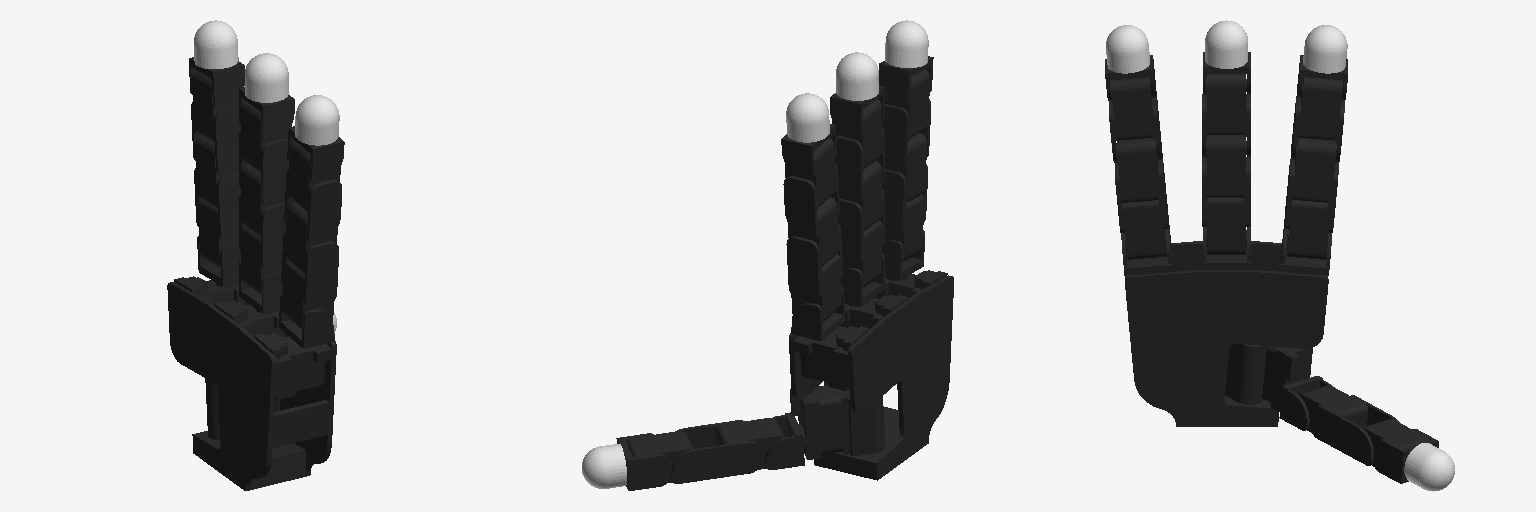
robot.urdf — allegro_hand_right:
<?xml version="1.0" ?>
<!-- =================================================================================== -->
<!-- |    This document was autogenerated by xacro from urdf/allegro_hand_description_right.xacro | -->
<!-- |    EDITING THIS FILE BY HAND IS NOT RECOMMENDED                                 | -->
<!-- =================================================================================== -->
<robot name="allegro_hand_right" xmlns:xacro="http://www.ros.org/wiki/xacro">
  <!-- ============================================================================= -->
  <!-- Base link -->
  <link name="hand_root">
    <origin xyz="0 0 0"/>
  </link>
  <joint name="root_to_base" type="fixed">
    <parent link="hand_root"/>
    <child link="palm_link"/>
    <origin xyz="0 0 0.095"/>
  </joint>
  <!-- PALM -->
  <link name="palm_link">
    <visual>
      <geometry>
        <mesh filename="../meshes/base_link.obj"/>
      </geometry>
      <origin rpy="0 0 0" xyz="0 0 0 "/>
      <material name="black">
        <color rgba="0.2 0.2 0.2 1"/>
      </material>
    </visual>
    <collision>
      <origin rpy="0 0 0" xyz="-0.009300 0 -0.0475"/>
      <geometry>
        <box size="0.0408 0.1130 0.095"/>
      </geometry>
    </collision>
    <inertial>
      <origin rpy="0 0 0" xyz="0 0 0"/>
      <mass value="0.4154"/>
      <inertia ixx="0.00208916" ixy="-3.63457e-06" ixz="0.000223277" iyy="0.00182848" iyz="-1.75634e-05" izz="0.000482459" />
    </inertial>
  </link>
  <!-- [LINK 0, 4, 8] -->
  <link name="link_0">
    <visual>
      <geometry>
        <mesh filename="../meshes/link_0.0.obj"/>
      </geometry>
      <material name="black"/>
    </visual>
    <collision>
      <geometry>
        <box size="0.0196 0.0275 0.0164"/>
      </geometry>
      <origin rpy="0 0 0" xyz="0 0 0.0082"/>
    </collision>
    <inertial>
      <mass value="0.0119"/>
      <origin rpy="0 0 0" xyz="0 0 0"/>
      <inertia ixx="1.95377e-06" ixy="3.03372e-09" ixz="8.92323e-08" iyy="1.17908e-06" iyz="-3.7069e-08" izz="1.49673e-06" />
    </inertial>
  </link>
  <joint name="joint_0" type="revolute">
    <axis xyz="0 0 1"/>
    <limit effort="15" lower="-0.47" upper="0.47" velocity="7"/>
    <parent link="palm_link"/>
    <child link="link_0"/>
    <origin rpy="-0.08726646255 0 0" xyz="0 0.0435 -0.001542"/>
    <dynamics damping="1e-2" friction="10"/>
  </joint>
  <transmission name="joint_0_trans" type="transmission_interface/SimpleTransmission">
    <actuator name="joint_0_motor"/>
    <joint name="joint_0"/>
    <mechanicalReduction>1</mechanicalReduction>
    <motorTorqueConstant>1</motorTorqueConstant>
  </transmission>
  <!-- [LINK 1, 5, 9] -->
  <link name="link_1">
    <visual>
      <geometry>
        <mesh filename="../meshes/link_1.0.obj"/>
      </geometry>
      <material name="black"/>
    </visual>
    <collision>
      <geometry>
        <box size="0.0196 0.0275 0.054"/>
      </geometry>
      <origin rpy="0 0 0" xyz="0 0 0.027"/>
    </collision>
    <inertial>
      <mass value="0.065"/>
      <origin rpy="0 0 0" xyz="0 0 0"/>
      <inertia ixx="7.19218e-05" ixy="0" ixz="0" iyy="7.4377e-05" iyz="7.32186e-07" izz="5.40622e-06" />
    </inertial>
  </link>
  <joint name="joint_1" type="revolute">
    <limit effort="15" lower="-0.196" upper="1.61" velocity="7"/>
    <axis xyz="0 1 0"/>
    <parent link="link_0"/>
    <child link="link_1"/>
    <origin xyz="0 0 0.0164"/>
    <dynamics damping="1e-2" friction="5"/>
  </joint>
  <transmission name="joint_1_trans" type="transmission_interface/SimpleTransmission">
    <actuator name="joint_1_motor"/>
    <joint name="joint_1"/>
    <mechanicalReduction>1</mechanicalReduction>
    <motorTorqueConstant>1</motorTorqueConstant>
  </transmission>
  <!-- [LINK 2, 6, 10]-->
  <link name="link_2">
    <visual>
      <geometry>
        <mesh filename="../meshes/link_2.0.obj"/>
      </geometry>
      <material name="black"/>
    </visual>
    <collision>
      <geometry>
        <box size="0.0196 0.0275 0.0384"/>
      </geometry>
      <origin rpy="0 0 0" xyz="0 0 0.0192"/>
    </collision>
    <inertial>
      <mass value="0.0355"/>
      <origin rpy="0 0 0" xyz="0 0 0"/>
      <inertia ixx="3.16925e-05" ixy="1.07094e-09" ixz="-4.91273e-09" iyy="3.10516e-05" iyz="3.87549e-08" izz="3.20319e-06" />
    </inertial>
  </link>
  <joint name="joint_2" type="revolute">
    <axis xyz="0 1 0"/>
    <limit effort="15" lower="-0.174" upper="1.709" velocity="7"/>
    <parent link="link_1"/>
    <child link="link_2"/>
    <origin xyz="0 0 0.054"/>
    <dynamics damping="2.5e-2" friction="10"/>
  </joint>
  <transmission name="joint_2_trans" type="transmission_interface/SimpleTransmission">
    <actuator name="joint_2_motor"/>
    <joint name="joint_2"/>
    <mechanicalReduction>1</mechanicalReduction>
    <motorTorqueConstant>1</motorTorqueConstant>
  </transmission>
  <!-- [LINK 3, 7, 11] -->
  <link name="link_3">
    <visual>
      <geometry>
        <mesh filename="../meshes/link_3.0.obj"/>
      </geometry>
      <material name="black"/>
    </visual>
    <collision>
      <geometry>
        <box size="0.0196 0.0275 0.0267"/>
      </geometry>
      <origin rpy="0 0 0" xyz="0 0 0.01335"/>
    </collision>
    <inertial>
      <mass value="0.0096"/>
      <origin rpy="0 0 0" xyz="0 0 0"/>
      <inertia ixx="2.13975e-06" ixy="1.59554e-09" ixz="-7.47528e-09" iyy="1.52036e-06" iyz="-9.89336e-09" izz="1.20271e-06" />
    </inertial>
  </link>
  <joint name="joint_3" type="revolute">
    <axis xyz="0 1 0"/>
    <limit effort="15" lower="-0.227" upper="1.618" velocity="7"/>
    <parent link="link_2"/>
    <child link="link_3"/>
    <origin xyz="0 0 0.0384"/>
    <dynamics damping="3.2e-2" friction="12"/>
  </joint>
  <transmission name="joint_3_trans" type="transmission_interface/SimpleTransmission">
    <actuator name="joint_3_motor"/>
    <joint name="joint_3"/>
    <mechanicalReduction>1</mechanicalReduction>
    <motorTorqueConstant>1</motorTorqueConstant>
  </transmission>
  <!-- [FINGER TIP] -->
  <link name="link_3_tip">
    <visual>
      <geometry>
        <mesh filename="../meshes/link_3.0_tip.obj"/>
      </geometry>
      <material name="white">
        <color rgba=".9 .9 .9 1"/>
      </material>
    </visual>
    <collision>
      <geometry>
        <sphere radius="0.012"/>
      </geometry>
    </collision>
    <inertial>
      <mass value="0.0168"/>
      <origin rpy="0 0 0" xyz="0 0 0"/>
      <inertia ixx="1.19599e-05" ixy="0" ixz="0" iyy="1.19598e-05" iyz="0" izz="1.10345e-06" />
    </inertial>
  </link>
  <joint name="joint_3_tip" type="fixed">
    <parent link="link_3"/>
    <child link="link_3_tip"/>
    <origin rpy="0 0 0" xyz="0 0 0.0267"/>
  </joint>
  <!-- [LINK 0, 4, 8] -->
  <link name="link_4">
    <visual>
      <geometry>
        <mesh filename="../meshes/link_0.0.obj"/>
      </geometry>
      <material name="black"/>
    </visual>
    <collision>
      <geometry>
        <box size="0.0196 0.0275 0.0164"/>
      </geometry>
      <origin rpy="0 0 0" xyz="0 0 0.0082"/>
    </collision>
    <inertial>
      <mass value="0.0119"/>
      <origin rpy="0 0 0" xyz="0 0 0"/>
      <inertia ixx="1.95377e-06" ixy="3.03372e-09" ixz="8.92323e-08" iyy="1.17908e-06" iyz="-3.7069e-08" izz="1.49673e-06" />
    </inertial>
  </link>
  <joint name="joint_4" type="revolute">
    <axis xyz="0 0 1"/>
    <limit effort="15" lower="-0.47" upper="0.47" velocity="7"/>
    <parent link="palm_link"/>
    <child link="link_4"/>
    <origin rpy="0.0 0 0" xyz="0 0 0.0007"/>
    <dynamics damping="1e-2" friction="10"/>
  </joint>
  <transmission name="joint_4_trans" type="transmission_interface/SimpleTransmission">
    <actuator name="joint_4_motor"/>
    <joint name="joint_4"/>
    <mechanicalReduction>1</mechanicalReduction>
    <motorTorqueConstant>1</motorTorqueConstant>
  </transmission>
  <!-- [LINK 1, 5, 9] -->
  <link name="link_5">
    <visual>
      <geometry>
        <mesh filename="../meshes/link_1.0.obj"/>
      </geometry>
      <material name="black"/>
    </visual>
    <collision>
      <geometry>
        <box size="0.0196 0.0275 0.054"/>
      </geometry>
      <origin rpy="0 0 0" xyz="0 0 0.027"/>
    </collision>
    <inertial>
      <mass value="0.065"/>
      <origin rpy="0 0 0" xyz="0 0 0"/>
      <inertia ixx="7.19218e-05" ixy="0" ixz="0" iyy="7.4377e-05" iyz="7.32186e-07" izz="5.40622e-06" />
    </inertial>
  </link>
  <joint name="joint_5" type="revolute">
    <limit effort="15" lower="-0.196" upper="1.61" velocity="7"/>
    <axis xyz="0 1 0"/>
    <parent link="link_4"/>
    <child link="link_5"/>
    <origin xyz="0 0 0.0164"/>
    <dynamics damping="1e-2" friction="5"/>
  </joint>
  <transmission name="joint_5_trans" type="transmission_interface/SimpleTransmission">
    <actuator name="joint_5_motor"/>
    <joint name="joint_5"/>
    <mechanicalReduction>1</mechanicalReduction>
    <motorTorqueConstant>1</motorTorqueConstant>
  </transmission>
  <!-- [LINK 2, 6, 10]-->
  <link name="link_6">
    <visual>
      <geometry>
        <mesh filename="../meshes/link_2.0.obj"/>
      </geometry>
      <material name="black"/>
    </visual>
    <collision>
      <geometry>
        <box size="0.0196 0.0275 0.0384"/>
      </geometry>
      <origin rpy="0 0 0" xyz="0 0 0.0192"/>
    </collision>
    <inertial>
      <mass value="0.0355"/>
      <origin rpy="0 0 0" xyz="0 0 0"/>
      <inertia ixx="3.16925e-05" ixy="1.07094e-09" ixz="-4.91273e-09" iyy="3.10516e-05" iyz="3.87549e-08" izz="3.20319e-06" />
    </inertial>
  </link>
  <joint name="joint_6" type="revolute">
    <axis xyz="0 1 0"/>
    <limit effort="15" lower="-0.174" upper="1.709" velocity="7"/>
    <parent link="link_5"/>
    <child link="link_6"/>
    <origin xyz="0 0 0.054"/>
    <dynamics damping="2.5e-2" friction="10"/>
  </joint>
  <transmission name="joint_6_trans" type="transmission_interface/SimpleTransmission">
    <actuator name="joint_6_motor"/>
    <joint name="joint_6"/>
    <mechanicalReduction>1</mechanicalReduction>
    <motorTorqueConstant>1</motorTorqueConstant>
  </transmission>
  <!-- [LINK 3, 7, 11] -->
  <link name="link_7">
    <visual>
      <geometry>
        <mesh filename="../meshes/link_3.0.obj"/>
      </geometry>
      <material name="black"/>
    </visual>
    <collision>
      <geometry>
        <box size="0.0196 0.0275 0.0267"/>
      </geometry>
      <origin rpy="0 0 0" xyz="0 0 0.01335"/>
    </collision>
    <inertial>
      <mass value="0.0096"/>
      <origin rpy="0 0 0" xyz="0 0 0"/>
      <inertia ixx="2.13975e-06" ixy="1.59554e-09" ixz="-7.47528e-09" iyy="1.52036e-06" iyz="-9.89336e-09" izz="1.20271e-06" />
    </inertial>
  </link>
  <joint name="joint_7" type="revolute">
    <axis xyz="0 1 0"/>
    <limit effort="15" lower="-0.227" upper="1.618" velocity="7"/>
    <parent link="link_6"/>
    <child link="link_7"/>
    <origin xyz="0 0 0.0384"/>
    <dynamics damping="3.2e-2" friction="12"/>
  </joint>
  <transmission name="joint_7_trans" type="transmission_interface/SimpleTransmission">
    <actuator name="joint_7_motor"/>
    <joint name="joint_7"/>
    <mechanicalReduction>1</mechanicalReduction>
    <motorTorqueConstant>1</motorTorqueConstant>
  </transmission>
  <!-- [FINGER TIP] -->
  <link name="link_7_tip">
    <visual>
      <geometry>
        <mesh filename="../meshes/link_3.0_tip.obj"/>
      </geometry>
      <material name="white">
        <color rgba=".9 .9 .9 1"/>
      </material>
    </visual>
    <collision>
      <geometry>
        <sphere radius="0.012"/>
      </geometry>
    </collision>
    <inertial>
      <mass value="0.0168"/>
      <origin rpy="0 0 0" xyz="0 0 0"/>
      <inertia ixx="1.19599e-05" ixy="0" ixz="0" iyy="1.19598e-05" iyz="0" izz="1.10345e-06" />
    </inertial>
  </link>
  <joint name="joint_7_tip" type="fixed">
    <parent link="link_7"/>
    <child link="link_7_tip"/>
    <origin rpy="0 0 0" xyz="0 0 0.0267"/>
  </joint>
  <!-- [LINK 0, 4, 8] -->
  <link name="link_8">
    <visual>
      <geometry>
        <mesh filename="../meshes/link_0.0.obj"/>
      </geometry>
      <material name="black"/>
    </visual>
    <collision>
      <geometry>
        <box size="0.0196 0.0275 0.0164"/>
      </geometry>
      <origin rpy="0 0 0" xyz="0 0 0.0082"/>
    </collision>
    <inertial>
      <mass value="0.0119"/>
      <origin rpy="0 0 0" xyz="0 0 0"/>
      <inertia ixx="1.95377e-06" ixy="3.03372e-09" ixz="8.92323e-08" iyy="1.17908e-06" iyz="-3.7069e-08" izz="1.49673e-06" />
    </inertial>
  </link>
  <joint name="joint_8" type="revolute">
    <axis xyz="0 0 1"/>
    <limit effort="15" lower="-0.47" upper="0.47" velocity="7"/>
    <parent link="palm_link"/>
    <child link="link_8"/>
    <origin rpy="0.08726646255 0 0" xyz="0 -0.0435 -0.001542"/>
    <dynamics damping="1e-2" friction="10"/>
  </joint>
  <transmission name="joint_8_trans" type="transmission_interface/SimpleTransmission">
    <actuator name="joint_8_motor"/>
    <joint name="joint_8"/>
    <mechanicalReduction>1</mechanicalReduction>
    <motorTorqueConstant>1</motorTorqueConstant>
  </transmission>
  <!-- [LINK 1, 5, 9] -->
  <link name="link_9">
    <visual>
      <geometry>
        <mesh filename="../meshes/link_1.0.obj"/>
      </geometry>
      <material name="black"/>
    </visual>
    <collision>
      <geometry>
        <box size="0.0196 0.0275 0.054"/>
      </geometry>
      <origin rpy="0 0 0" xyz="0 0 0.027"/>
    </collision>
    <inertial>
      <mass value="0.065"/>
      <origin rpy="0 0 0" xyz="0 0 0"/>
      <inertia ixx="7.19218e-05" ixy="0" ixz="0" iyy="7.4377e-05" iyz="7.32186e-07" izz="5.40622e-06" />
    </inertial>
  </link>
  <joint name="joint_9" type="revolute">
    <limit effort="15" lower="-0.196" upper="1.61" velocity="7"/>
    <axis xyz="0 1 0"/>
    <parent link="link_8"/>
    <child link="link_9"/>
    <origin xyz="0 0 0.0164"/>
    <dynamics damping="1e-2" friction="5"/>
  </joint>
  <transmission name="joint_9_trans" type="transmission_interface/SimpleTransmission">
    <actuator name="joint_9_motor"/>
    <joint name="joint_9"/>
    <mechanicalReduction>1</mechanicalReduction>
    <motorTorqueConstant>1</motorTorqueConstant>
  </transmission>
  <!-- [LINK 2, 6, 10]-->
  <link name="link_10">
    <visual>
      <geometry>
        <mesh filename="../meshes/link_2.0.obj"/>
      </geometry>
      <material name="black"/>
    </visual>
    <collision>
      <geometry>
        <box size="0.0196 0.0275 0.0384"/>
      </geometry>
      <origin rpy="0 0 0" xyz="0 0 0.0192"/>
    </collision>
    <inertial>
      <mass value="0.0355"/>
      <origin rpy="0 0 0" xyz="0 0 0"/>
      <inertia ixx="3.16925e-05" ixy="1.07094e-09" ixz="-4.91273e-09" iyy="3.10516e-05" iyz="3.87549e-08" izz="3.20319e-06" />
    </inertial>
  </link>
  <joint name="joint_10" type="revolute">
    <axis xyz="0 1 0"/>
    <limit effort="15" lower="-0.174" upper="1.709" velocity="7"/>
    <parent link="link_9"/>
    <child link="link_10"/>
    <origin xyz="0 0 0.054"/>
    <dynamics damping="2.5e-2" friction="10"/>
  </joint>
  <transmission name="joint_10_trans" type="transmission_interface/SimpleTransmission">
    <actuator name="joint_10_motor"/>
    <joint name="joint_10"/>
    <mechanicalReduction>1</mechanicalReduction>
    <motorTorqueConstant>1</motorTorqueConstant>
  </transmission>
  <!-- [LINK 3, 7, 11] -->
  <link name="link_11">
    <visual>
      <geometry>
        <mesh filename="../meshes/link_3.0.obj"/>
      </geometry>
      <material name="black"/>
    </visual>
    <collision>
      <geometry>
        <box size="0.0196 0.0275 0.0267"/>
      </geometry>
      <origin rpy="0 0 0" xyz="0 0 0.01335"/>
    </collision>
    <inertial>
      <mass value="0.0096"/>
      <origin rpy="0 0 0" xyz="0 0 0"/>
      <inertia ixx="2.13975e-06" ixy="1.59554e-09" ixz="-7.47528e-09" iyy="1.52036e-06" iyz="-9.89336e-09" izz="1.20271e-06" />
    </inertial>
  </link>
  <joint name="joint_11" type="revolute">
    <axis xyz="0 1 0"/>
    <limit effort="15" lower="-0.227" upper="1.618" velocity="7"/>
    <parent link="link_10"/>
    <child link="link_11"/>
    <origin xyz="0 0 0.0384"/>
    <dynamics damping="3.2e-2" friction="12"/>
  </joint>
  <transmission name="joint_11_trans" type="transmission_interface/SimpleTransmission">
    <actuator name="joint_11_motor"/>
    <joint name="joint_11"/>
    <mechanicalReduction>1</mechanicalReduction>
    <motorTorqueConstant>1</motorTorqueConstant>
  </transmission>
  <!-- [FINGER TIP] -->
  <link name="link_11_tip">
    <visual>
      <geometry>
        <mesh filename="../meshes/link_3.0_tip.obj"/>
      </geometry>
      <material name="white">
        <color rgba=".9 .9 .9 1"/>
      </material>
    </visual>
    <collision>
      <geometry>
        <sphere radius="0.012"/>
      </geometry>
    </collision>
    <inertial>
      <mass value="0.0168"/>
      <origin rpy="0 0 0" xyz="0 0 0"/>
      <inertia ixx="1.19599e-05" ixy="0" ixz="0" iyy="1.19598e-05" iyz="0" izz="1.10345e-06" />
    </inertial>
  </link>
  <joint name="joint_11_tip" type="fixed">
    <parent link="link_11"/>
    <child link="link_11_tip"/>
    <origin rpy="0 0 0" xyz="0 0 0.0267"/>
  </joint>
  <!-- [LINK 12] -->
  <link name="link_12">
    <visual>
      <geometry>
        <mesh filename="../meshes/link_12.0_right.obj"/>
      </geometry>
      <material name="black">
        <color rgba=".2 .2 .2 1"/>
      </material>
      <origin rpy="0 0 0" xyz="0 0 0"/>
    </visual>
    <collision>
      <geometry>
        <box size="0.0358 0.034 0.0455"/>
      </geometry>
      <origin rpy="0 0 0" xyz="-0.0179 0.009 0.0145"/>
    </collision>
    <inertial>
      <mass value="0.0176"/>
      <origin rpy="0 0 0" xyz="0 0 0"/>
      <inertia ixx="8.13883e-06" ixy="2.55226e-06" ixz="3.89933e-06" iyy="1.31421e-05" iyz="-1.46267e-06" izz="1.00171e-05" />
    </inertial>
  </link>
  <joint name="joint_12" type="revolute">
    <axis xyz="-1 0 0"/>
    <limit effort="15" lower="0.263" upper="1.396" velocity="7"/>
    <parent link="palm_link"/>
    <child link="link_12"/>
    <origin rpy="0 -1.65806278845 -1.5707963259" xyz="-0.0182 0.019333 -0.045987"/>
    <dynamics damping="1e-2" friction="10"/>
  </joint>
  <transmission name="joint_12_trans" type="transmission_interface/SimpleTransmission">
    <actuator name="joint_12_motor"/>
    <joint name="joint_12"/>
    <mechanicalReduction>1</mechanicalReduction>
    <motorTorqueConstant>1</motorTorqueConstant>
  </transmission>
  <!-- [LINK 13] -->
  <link name="link_13">
    <visual>
      <geometry>
        <mesh filename="../meshes/link_13.0.obj"/>
      </geometry>
      <material name="black">
        <color rgba=".2 .2 .2 1"/>
      </material>
    </visual>
    <collision>
      <geometry>
        <box size="0.0196 0.0275 0.0177"/>
      </geometry>
      <origin rpy="0 0 0" xyz="0 0 0.00885"/>
    </collision>
    <inertial>
      <mass value="0.0119"/>
      <origin rpy="0 0 0" xyz="0 0 0"/>
      <inertia ixx="1.9263e-06" ixy="3.05433e-09" ixz="8.86582e-08" iyy="1.15276e-06" iyz="-3.64521e-08" izz="1.4957e-06" />
    </inertial>
  </link>
  <joint name="joint_13" type="revolute">
    <axis xyz="0 0 1"/>
    <limit effort="15" lower="-0.105" upper="1.163" velocity="7"/>
    <parent link="link_12"/>
    <child link="link_13"/>
    <origin xyz="-0.027 0.005 0.0399"/>
    <dynamics damping="1e-2" friction="5"/>
  </joint>
  <transmission name="joint_13_trans" type="transmission_interface/SimpleTransmission">
    <actuator name="joint_13_motor"/>
    <joint name="joint_13"/>
    <mechanicalReduction>1</mechanicalReduction>
    <motorTorqueConstant>1</motorTorqueConstant>
  </transmission>
  <!-- [LINK 14] -->
  <link name="link_14">
    <visual>
      <geometry>
        <mesh filename="../meshes/link_14.0.obj"/>
      </geometry>
      <material name="black">
                </material>
    </visual>
    <collision>
      <geometry>
        <box size="0.0196 0.0275 0.0514"/>
      </geometry>
      <origin rpy="0 0 0" xyz="0 0 0.0257"/>
    </collision>
    <inertial>
      <mass value="0.038"/>
      <origin rpy="0 0 0" xyz="0 0 0"/>
      <inertia ixx="3.67044e-05" ixy="1.02277e-09" ixz="1.4854e-07" iyy="3.54042e-05" iyz="-3.67203e-08" izz="3.63275e-06" />
    </inertial>
  </link>
  <joint name="joint_14" type="revolute">
    <axis xyz="0 1 0"/>
    <limit effort="15" lower="-0.189" upper="1.644" velocity="7"/>
    <parent link="link_13"/>
    <child link="link_14"/>
    <origin xyz="0 0 0.0177"/>
    <dynamics damping="1e-2" friction="10"/>
  </joint>
  <transmission name="joint_14_trans" type="transmission_interface/SimpleTransmission">
    <actuator name="joint_14_motor"/>
    <joint name="joint_14"/>
    <mechanicalReduction>1</mechanicalReduction>
    <motorTorqueConstant>1</motorTorqueConstant>
  </transmission>
  <!-- [LINK 15] -->
  <link name="link_15">
    <visual>
      <geometry>
        <mesh filename="../meshes/link_15.0.obj"/>
      </geometry>
      <material name="black">
                </material>
    </visual>
    <collision>
      <geometry>
        <box size="0.0196 0.0275 0.0423"/>
      </geometry>
      <origin rpy="0 0 0" xyz="0 0 0.02115"/>
    </collision>
    <inertial>
      <mass value="0.0388"/>
      <origin rpy="0 0 0" xyz="0 0 0"/>
      <inertia ixx="4.30919e-05" ixy="0" ixz="0" iyy="3.85425e-05" iyz="-3.0146e-08" izz="1.72974e-05" />
    </inertial>
  </link>
  <joint name="joint_15" type="revolute">
    <axis xyz="0 1 0"/>
    <limit effort="15" lower="-0.162" upper="1.719" velocity="7"/>
    <parent link="link_14"/>
    <child link="link_15"/>
    <origin xyz="0 0 0.0514"/>
    <dynamics damping="1e-2" friction="12"/>
  </joint>
  <transmission name="joint_15_trans" type="transmission_interface/SimpleTransmission">
    <actuator name="joint_15_motor"/>
    <joint name="joint_15"/>
    <mechanicalReduction>1</mechanicalReduction>
    <motorTorqueConstant>1</motorTorqueConstant>
  </transmission>
  <!-- [FINGER TIP] -->
  <link name="link_15_tip">
    <visual>
      <geometry>
        <mesh filename="../meshes/link_15.0_tip.obj"/>
      </geometry>
      <material name="white">
        <color rgba=".9 .9 .9 1"/>
      </material>
    </visual>
    <collision>
      <geometry>
        <sphere radius="0.012"/>
      </geometry>
      <origin rpy="0 0 0" xyz="0 0 0"/>
    </collision>
    <inertial>
      <mass value="0.0168"/>
      <origin rpy="0 0 0" xyz="0 0 0"/>
      <inertia ixx="1.19599e-05" ixy="0" ixz="0" iyy="1.19598e-05" iyz="0" izz="1.10345e-06" />
    </inertial>
  </link>
  <joint name="joint_15_tip" type="fixed">
    <parent link="link_15"/>
    <child link="link_15_tip"/>
    <origin rpy="0 0 0" xyz="0 0 0.0423"/>
  </joint>
  <!-- ============================================================================= -->
  <!-- END THUMB MACRO -->
  <!-- [[END]] THREE FINGER MACRO -->
</robot>

--- Facts derived from the render (not from the file) ---
Views: 3 orthographic renders of the robot side by side, from view 1: azimuth 30°, elevation 25°; view 2: azimuth 150°, elevation 25°; view 3: azimuth 270°, elevation 25°.
Robot: allegro_hand_right — 22 links, 21 joints (16 revolute, 5 fixed); root link hand_root; default pose: all joints at 0 but 1 set to mid-range because 0 is outside their limits (joint_12 = 0.8295).
Visible links, largest first — view 1: palm_link, link_9, link_1, link_5, link_10, link_2, link_6, link_11_tip, link_7_tip, link_3_tip, link_8, link_3 (+5 smaller); view 2: palm_link, link_14, link_12, link_1, link_5, link_9, link_2, link_15, link_6, link_10, link_3_tip, link_7_tip (+9 smaller); view 3: palm_link, link_1, link_9, link_5, link_12, link_14, link_2, link_10, link_6, link_15, link_15_tip, link_3_tip (+9 smaller).
Link boxes in pixels (x1,y1,x2,y2): palm_link: (167,276,336,490); link_9: (281,201,338,329); link_1: (194,136,240,267); link_5: (239,164,285,294); link_10: (284,141,341,244); link_2: (191,71,240,174); link_6: (239,101,291,205); link_11_tip: (295,95,339,145); link_7_tip: (245,53,288,102); link_3_tip: (194,20,238,68); link_8: (279,292,334,348); link_3: (189,57,244,108); palm_link: (789,270,953,480); link_14: (671,418,784,483); link_12: (790,382,885,459); link_1: (786,197,842,321); link_5: (838,161,884,287); link_9: (882,133,927,261); link_2: (783,138,839,239); link_15: (616,431,693,490); link_6: (832,99,884,201); link_10: (882,70,930,171); link_3_tip: (786,93,829,142); link_7_tip: (836,52,878,100); palm_link: (1125,241,1328,426); link_1: (1284,138,1338,259); link_9: (1115,138,1168,259); link_5: (1202,135,1250,254); link_12: (1225,344,1312,411); link_14: (1299,385,1399,465); link_2: (1291,77,1344,162); link_10: (1109,77,1162,162); link_6: (1202,74,1250,156); link_15: (1362,419,1438,483); link_15_tip: (1404,443,1454,491); link_3_tip: (1303,25,1347,73).
Bounding box of the posed robot: 0.1383 × 0.1948 × 0.2432 m (x, y, z).
Meshes: 11 distinct files referenced, 21 mesh visuals loaded (11 OBJ).